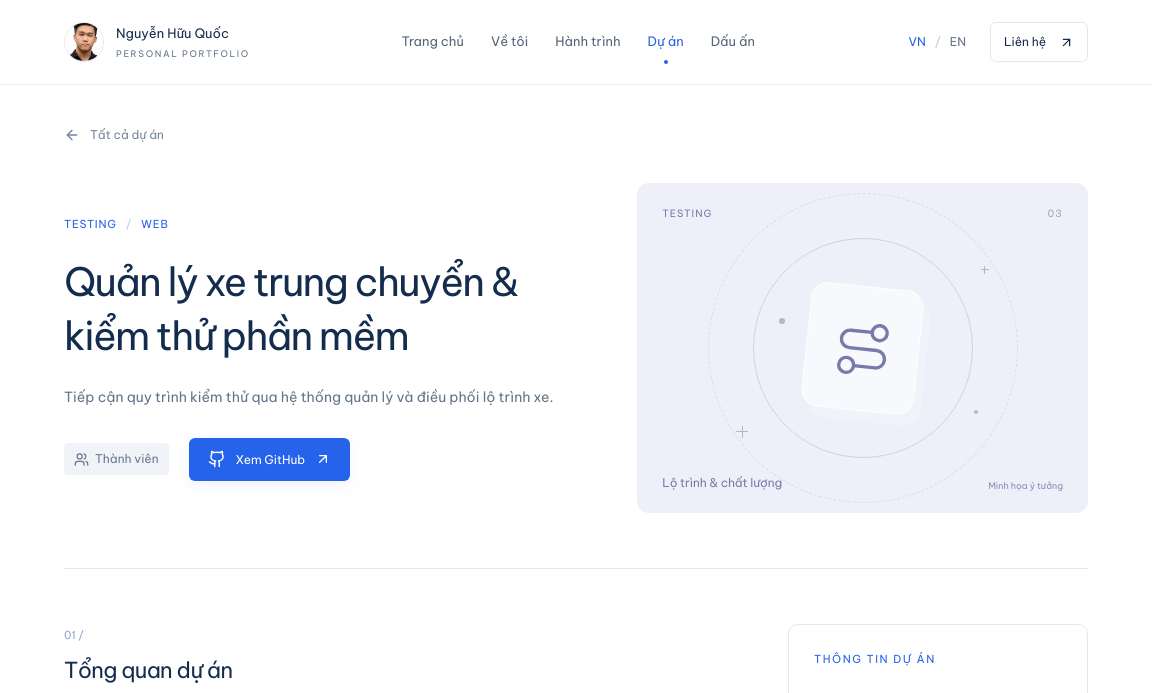
Test: case study routes and content authenticity › opens shuttle-testing with the confirmed role and real source link
The width and height of the screenshot is (1152, 693).
Expected: the heading "Quản lý xe trung chuyển & kiểm thử phần mềm" is shown, [64, 255, 582, 364]
Click the button named "English" at (958, 42), box [948, 22, 968, 62]
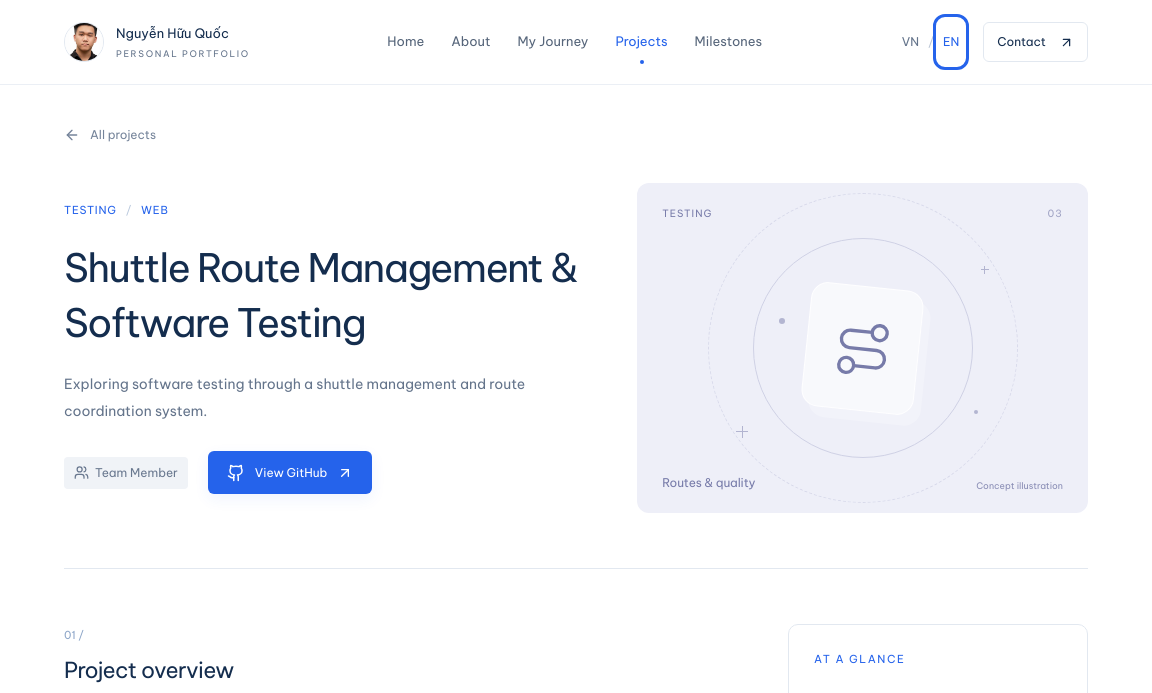
Result: the heading "Shuttle Route Management & Software Testing" is shown at [64, 241, 582, 351]
Result: the heading "Project overview" is shown at [64, 656, 234, 684]
Result: the text "Team Member" is shown at [64, 457, 188, 489]
